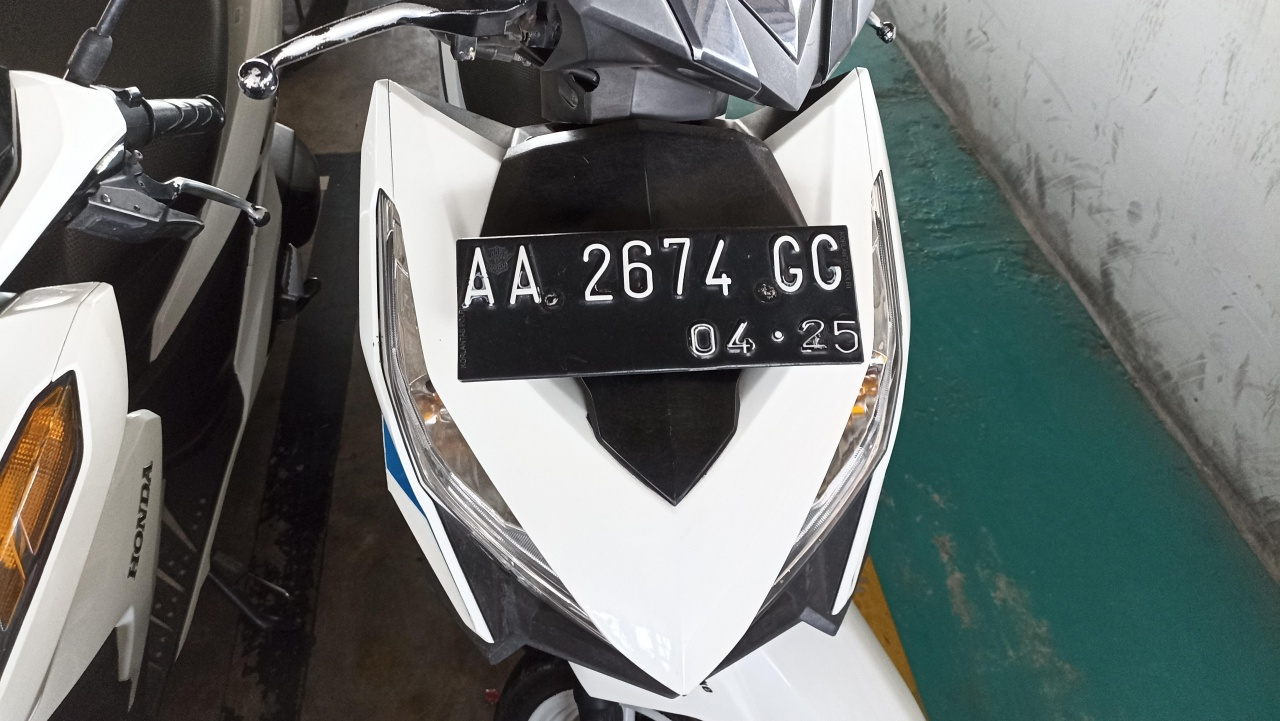plate: (456, 224, 865, 380)
